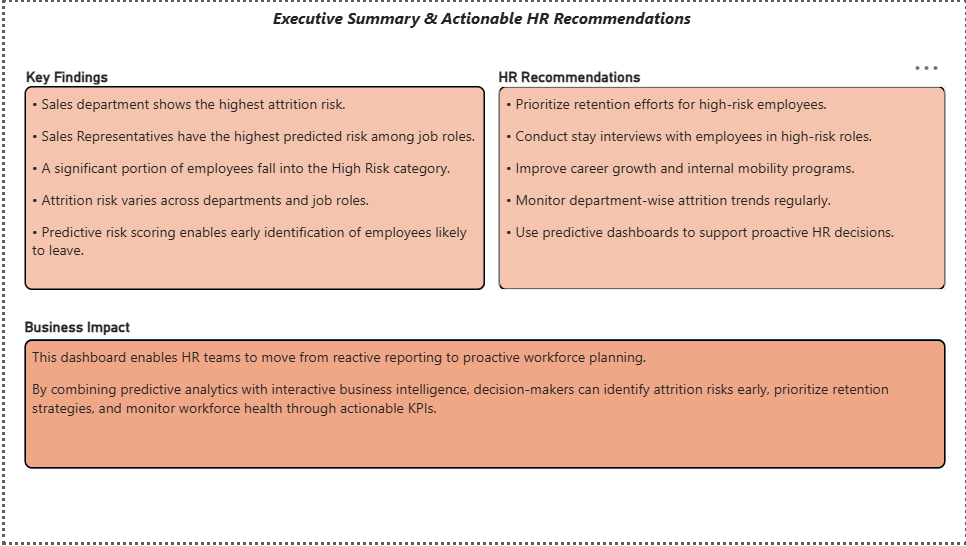

What the dashboard file says about the page in this screenshot:
{"tool":"powerbi","page":{"name":"Insights & Action Plan","canvas":[1280,720],"ordinal":5},"visuals":[{"type":"textbox","box":[64.8,30.8,1149.7,58.3],"z":0}]}

Visuals, with their boxes in screenshot pixels (x1, y1, x2, y2), scaled from the page's 1280x720 canvas onto the 966x546 screenshot:
textbox: crop(49, 23, 917, 68)
